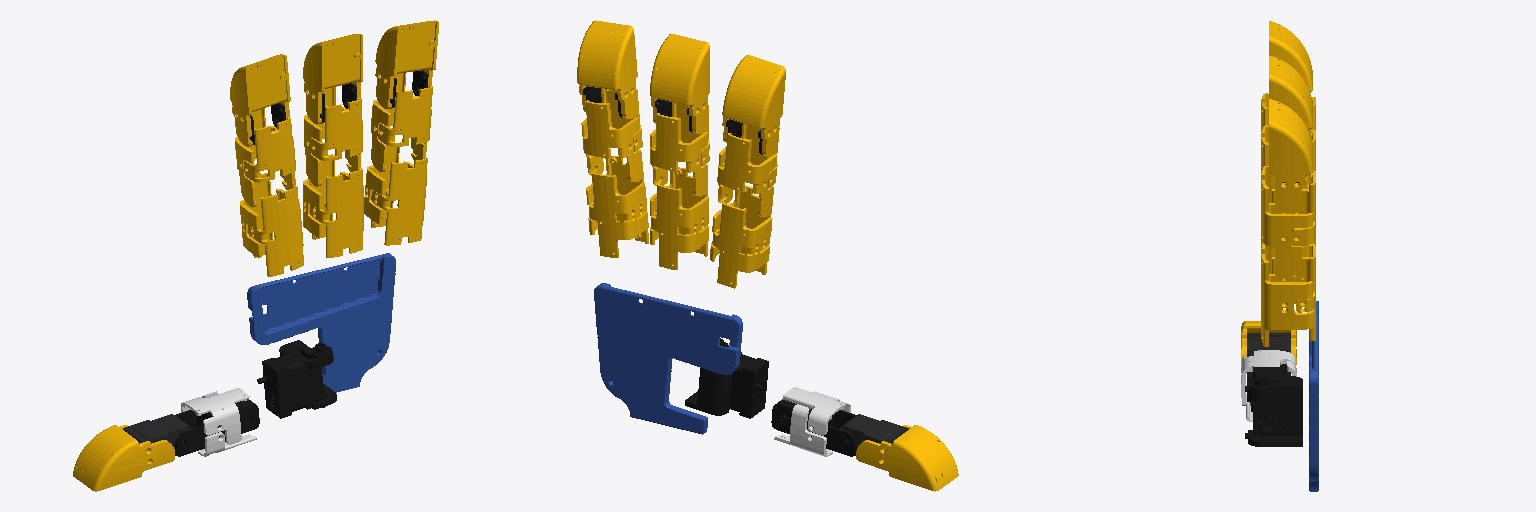
--- Render facts (derived) ---
The picture shows the robot from 3 angles, left to right: view 1: azimuth 30°, elevation 25°; view 2: azimuth 150°, elevation 25°; view 3: azimuth 270°, elevation 25°; orthographic projection.
Robot: allegro_hand_right — 38 links, 37 joints (16 revolute, 21 fixed); root link world; default pose: all joints at 0.
Visible links, largest first — view 1: palm_bracket, link_12, tft_bracket, pft_bracket, mft_bracket, ift_bracket, ipb_bracket, mpb_bracket, ppb_bracket, pmb_bracket, mmb_bracket, imb_bracket (+10 smaller); view 2: palm_bracket, pft_bracket, mft_bracket, ift_bracket, tft_bracket, link_12, ppf_bracket, mpf_bracket, ipf_bracket, pmf_bracket, mmf_bracket, imf_bracket (+10 smaller); view 3: link_12, pft_bracket, ppb_bracket, pmb_bracket, mft_bracket, palm_bracket, ift_bracket, pmf_bracket, ppf_bracket, tmf_bracket, link_15, tft_bracket.
Link boxes in pixels (x1,y1,x2,y2): palm_bracket: (247, 253, 395, 392); link_12: (257, 340, 336, 418); tft_bracket: (73, 425, 174, 491); pft_bracket: (375, 20, 438, 108); mft_bracket: (303, 34, 362, 124); ift_bracket: (230, 54, 290, 146); ipb_bracket: (248, 186, 303, 276); mpb_bracket: (310, 168, 363, 257); ppb_bracket: (371, 157, 427, 245); pmb_bracket: (378, 86, 432, 160); mmb_bracket: (311, 98, 362, 171); imb_bracket: (244, 117, 295, 189); palm_bracket: (594, 283, 742, 434); pft_bracket: (577, 20, 637, 118); mft_bracket: (650, 34, 709, 133); ift_bracket: (722, 55, 785, 156); tft_bracket: (856, 425, 958, 491); link_12: (685, 338, 768, 418); ppf_bracket: (589, 172, 648, 257); mpf_bracket: (651, 183, 708, 269); ipf_bracket: (712, 202, 772, 288); pmf_bracket: (582, 100, 642, 181); mmf_bracket: (650, 113, 707, 196); imf_bracket: (717, 133, 776, 217); link_12: (1245, 367, 1302, 446); pft_bracket: (1269, 99, 1312, 212); ppb_bracket: (1261, 243, 1313, 346); pmb_bracket: (1261, 166, 1312, 277); mft_bracket: (1269, 55, 1312, 129); palm_bracket: (1309, 301, 1318, 491); ift_bracket: (1269, 21, 1312, 92); pmf_bracket: (1272, 171, 1315, 245); ppf_bracket: (1272, 244, 1315, 340); tmf_bracket: (1241, 350, 1296, 405); link_15: (1247, 333, 1290, 364); tft_bracket: (1241, 321, 1296, 372).
Size in the robot's own frame: 0.2773 by 0.0477 by 0.2842 metres.
25 mesh visuals loaded from 17 distinct referenced files (10 binary STL, 1 ASCII STL, 1 Collada DAE); not drawn: 12 (reference not matched to a file when rendering).

The robot description file, URDF, robot "allegro_hand_right":
<?xml version="1.0" ?>
<robot name="allegro_hand_right">

    <link name="world"/>
    <link name="palm_link">
    <visual>
    <origin xyz="0 0.034 -0.002" rpy="3.14159 -0 0" />
    <geometry>
    <mesh filename="package://allegro_hand_description/meshes/g_r2.stl"/>
    </geometry>
    <material name="g_r2_material">
    <color rgba="0.2 0.2 0.2 1.0"/>
    </material>
    </visual>
    <collision>
    <origin xyz="0 0.034 -0.002" rpy="3.14159 -0 0" />
    <geometry>
    <mesh filename="package://allegro_hand_description/meshes/g_r2.stl"/>
    </geometry>
    <material name="g_r2_material">
    <color rgba="0.2 0.2 0.2 1.0"/>
    </material>
    </collision>
    <inertial>
    <origin xyz="-0.00043535 0.0160404 -0.0404815" rpy="0 0 0"/>
    <mass value="0.404445" />
    <inertia ixx="0.000491371" ixy="-9.01723e-06"  ixz="1.17974e-05" iyy="0.000773265" iyz="-5.50867e-06" izz="0.000547843" />
    </inertial>

    </link>

    <joint name="world_to_palm_link_joint" type="fixed">
        <origin xyz="0 0 0.095" rpy="0 0 0"/>
        <parent link="world"/>
        <child link="palm_link"/>
    </joint>
    
    <link name="link_0">
    <visual>
    <origin xyz="0 6.93889e-18 -0.0152" rpy="1.5708 6.16298e-33 -5.3926e-33" />
    <geometry>
    <mesh filename="package://allegro_hand_description/meshes/extended_finger_base.stl"/>
    </geometry>
    <material name="extended_finger_base_material">
    <color rgba="0.647059 0.647059 0.647059 1.0"/>
    </material>
    </visual>
    <collision>
    <origin xyz="0 6.93889e-18 -0.0152" rpy="1.5708 6.16298e-33 -5.3926e-33" />
    <geometry>
    <mesh filename="package://allegro_hand_description/meshes/extended_finger_base.stl"/>
    </geometry>
    <material name="extended_finger_base_material">
    <color rgba="0.647059 0.647059 0.647059 1.0"/>
    </material>
    </collision>
    <inertial>
    <origin xyz="-0.00041342 0.000666149 0.00960564" rpy="0 0 0"/>
    <mass value="0.0136672" />
    <inertia ixx="2.13441e-06" ixy="5.86704e-10"  ixz="-7.9563e-08" iyy="1.24411e-06" iyz="-6.13056e-08" izz="1.671e-06" />
    </inertial>
    </link>

    <link name="link_1">
    <visual>
    <origin xyz="-0.0182688 6.93889e-18 -0.0317805" rpy="-9.26798e-31 1.48353 -3.14159" />
    <geometry>
    <mesh filename="package://allegro_hand_description/meshes/p2_r6.stl"/>
    </geometry>
    <material name="p2_r6_material">
    <color rgba="0.129412 0.129412 0.129412 1.0"/>
    </material>
    </visual>
    <collision>
    <origin xyz="-0.0182688 6.93889e-18 -0.0317805" rpy="-9.26798e-31 1.48353 -3.14159" />
    <geometry>
    <mesh filename="package://allegro_hand_description/meshes/p2_r6.stl"/>
    </geometry>
    <material name="p2_r6_material">
    <color rgba="0.129412 0.129412 0.129412 1.0"/>
    </material>
    </collision>
    <inertial>
    <origin xyz="0.027 9.54536e-05 0.0124409" rpy="0 0 0"/>
    <mass value="0.0418346" />
    <inertia ixx="4.00114e-06" ixy="-1.81985e-08"  ixz="-4.42841e-15" iyy="1.97927e-05" iyz="1.59578e-08" izz="1.88563e-05" />
    </inertial>
    </link>

    <link name="link_2">
    <visual>
    <origin xyz="0.0722688 -4.16334e-17 -0.0317805" rpy="-7.19385e-31 1.48353 1.67955e-30" />
    <geometry>
    <mesh filename="package://allegro_hand_description/meshes/extended_fingertop.stl"/>
    </geometry>
    <material name="extended_fingertop_material">
    <color rgba="0.647059 0.647059 0.647059 1.0"/>
    </material>
    </visual>
    <collision>
    <origin xyz="0.0722688 -4.16334e-17 -0.0317805" rpy="-7.19385e-31 1.48353 1.67955e-30" />
    <geometry>
    <mesh filename="package://allegro_hand_description/meshes/extended_fingertop.stl"/>
    </geometry>
    <material name="extended_fingertop_material">
    <color rgba="0.647059 0.647059 0.647059 1.0"/>
    </material>
    </collision>
    <inertial>
    <origin xyz="-0.0294592 -0.000104104 0.0123435" rpy="0 0 0"/>
    <mass value="0.0318021" />
    <inertia ixx="3.48619e-06" ixy="1.20808e-07"  ixz="6.2918e-07" iyy="8.82437e-06" iyz="5.78644e-09" izz="7.34771e-06" />
    </inertial>
    </link>

    <link name="link_3">
    <visual>
    <origin xyz="0.1253 -5.55112e-17 0.0118" rpy="-3.14159 8.09265e-31 -1.5708" />
    <geometry>
    <mesh filename="package://allegro_hand_description/meshes/p4_r.stl"/>
    </geometry>
    <material name="p4_r_material">
    <color rgba="0.129412 0.129412 0.129412 1.0"/>
    </material>
    </visual>
    <collision>
    <origin xyz="0.1253 -5.55112e-17 0.0118" rpy="-3.14159 8.09265e-31 -1.5708" />
    <geometry>
    <mesh filename="package://allegro_hand_description/meshes/p4_r.stl"/>
    </geometry>
    <material name="p4_r_material">
    <color rgba="0.129412 0.129412 0.129412 1.0"/>
    </material>
    </collision>
    <inertial>
    <origin xyz="-0.0100051 0.000639363 0.0123057" rpy="0 0 0"/>
    <mass value="0.0088374" />
    <inertia ixx="1.08072e-06" ixy="-4.65695e-08"  ixz="-3.42321e-08" iyy="1.11236e-06" iyz="-8.85024e-10" izz="5.61586e-07" />
    </inertial>
    </link>

    <link name="ift_bracket">
    <visual>
    <origin xyz="-0.1139 -0.004 0.0135" rpy="-3.14159 -1.1025e-17 2.98637e-30" />
    <geometry>
    <mesh filename="package://allegro_hand_description/meshes/distal_pcbbase.stl"/>
    </geometry>
    <material name="distal_pcbbase_material">
    <color rgba="1 0.756863 0.054902 1.0"/>
    </material>
    </visual>
    <collision>
    <origin xyz="-0.1139 -0.004 0.0135" rpy="-3.14159 -1.1025e-17 2.98637e-30" />
    <geometry>
    <mesh filename="package://allegro_hand_description/meshes/distal_pcbbase.stl"/>
    </geometry>
    <material name="distal_pcbbase_material">
    <color rgba="1 0.756863 0.054902 1.0"/>
    </material>
    </collision>
    <inertial>
    <origin xyz="0.0170719 -0.00112911 0.0135244" rpy="0 0 0"/>
    <mass value="0.0155109" />
    <inertia ixx="3.339e-06" ixy="-4.60426e-07"  ixz="1.73449e-08" iyy="6.13257e-06" iyz="-6.39964e-10" izz="4.49513e-06" />
    </inertial>
    </link>

    <joint name="joint_index_fingertip_bracket" type="fixed">
    <origin xyz="-0.0135 0.004 0.0254" rpy="-3.14159 -1.01255e-15 -3.14159" />
    <parent link="link_3" />
    <child link="ift_bracket" />
    <axis xyz="0 0 1"/>
    <limit effort="1" velocity="20" />
    <joint_properties friction="0.0"/>
    </joint>

    <joint name="joint_3_0" type="revolute">
    <origin xyz="-0.04615 1.38778e-17 0.0001" rpy="2.47521e-16 -2.87243e-16 -9.91762e-14" />
    <parent link="link_2" />
    <child link="link_3" />
    <axis xyz="0 0 1"/>
    <limit effort="15" velocity="20" lower="0" upper="1.57" />
    <dynamics damping="0" friction="0.5" />
    <gazebo>
        <implicitSpringDamper> true </implicitSpringDamper>
    </gazebo>
    </joint>

<!-- *************************************Transmission************************************** -->
    <transmission name="trans_3_0">
        <type>transmission_interface/SimpleTransmission</type>
        <joint name="joint_3_0">
            <hardwareInterface>hardware_interface/EffortJointInterface</hardwareInterface>
        </joint>
        <actuator name="motor_3_0">
            <mechanicalReduction>1</mechanicalReduction>
        </actuator>
    </transmission>
<!-- *************************************Transmission************************************** -->

    <link name="imf_bracket">
    <visual>
    <origin xyz="-0.0755 -0.004 0.014" rpy="3.70821e-32 2.66331e-18 9.59804e-32" />
    <geometry>
    <mesh filename="package://allegro_hand_description/meshes/medial_front.stl"/>
    </geometry>
    <material name="medial_front_material">
    <color rgba="1 0.756863 0.054902 1.0"/>
    </material>
    </visual>
    <collision>
    <origin xyz="-0.0755 -0.004 0.014" rpy="3.70821e-32 2.66331e-18 9.59804e-32" />
    <geometry>
    <mesh filename="package://allegro_hand_description/meshes/medial_front.stl"/>
    </geometry>
    <material name="medial_front_material">
    <color rgba="1 0.756863 0.054902 1.0"/>
    </material>
    </collision>
    <inertial>
    <origin xyz="0.00469281 0.00336791 0.0198072" rpy="0 0 0"/>
    <mass value="0.00473232" />
    <inertia ixx="8.28869e-07" ixy="-2.96994e-07"  ixz="2.53991e-07" iyy="1.55762e-06" iyz="2.23567e-07" izz="1.28629e-06" />
    </inertial>
    </link>

    <joint name="joint_index_medial_front_bracket" type="fixed">
    <origin xyz="-0.0215 -0.004 -0.0021" rpy="1.55523e-28 1.64355e-17 -3.14159" />
    <parent link="link_2" />
    <child link="imf_bracket" />
    <axis xyz="0 0 1"/>
    <limit effort="1" velocity="20" />
    <joint_properties friction="0.0"/>
    </joint>

    <link name="imb_bracket">
    <visual>
    <origin xyz="-0.0755 -0.004 0.014" rpy="-3.14159 9.1762e-18 2.03448e-31" />
    <geometry>
    <mesh filename="package://allegro_hand_description/meshes/medial_back.stl"/>
    </geometry>
    <material name="medial_back_material">
    <color rgba="1 0.756863 0.054902 1.0"/>
    </material>
    </visual>
    <collision>
    <origin xyz="-0.0755 -0.004 0.014" rpy="-3.14159 9.1762e-18 2.03448e-31" />
    <geometry>
    <mesh filename="package://allegro_hand_description/meshes/medial_back.stl"/>
    </geometry>
    <material name="medial_back_material">
    <color rgba="1 0.756863 0.054902 1.0"/>
    </material>
    </collision>
    <inertial>
    <origin xyz="0.0050369 0.00536951 0.0198823" rpy="0 0 0"/>
    <mass value="0.00531302" />
    <inertia ixx="1.01036e-06" ixy="-2.70353e-07"  ixz="2.64599e-07" iyy="1.7622e-06" iyz="2.24575e-07" izz="1.4134e-06" />
    </inertial>
    </link>

    <joint name="joint_index_medial_back_bracket" type="fixed">
    <origin xyz="-0.0215 0.004 0.0259" rpy="-3.14159 -1.66749e-15 3.14159" />
    <parent link="link_2" />
    <child link="imb_bracket" />
    <axis xyz="0 0 1"/>
    <limit effort="1" velocity="20" />
    <joint_properties friction="0.0"/>
    </joint>

    <joint name="joint_2_0" type="revolute">
    <origin xyz="0.054 -2.08167e-17 0" rpy="3.51153e-16 -1.76861e-16 -3.14159" />
    <parent link="link_1" />
    <child link="link_2" />
    <axis xyz="0 0 1"/>
    <limit effort="15" velocity="20" lower="0" upper="1.57" />
    <dynamics damping="0" friction="0.5" />
    <gazebo>
        <implicitSpringDamper> true </implicitSpringDamper>
    </gazebo>
    </joint>
    <!-- *************************************Transmission************************************** -->
    <transmission name="trans_2_0">
        <type>transmission_interface/SimpleTransmission</type>
        <joint name="joint_2_0">
            <hardwareInterface>hardware_interface/EffortJointInterface</hardwareInterface>
        </joint>
        <actuator name="motor_2_0">
            <mechanicalReduction>1</mechanicalReduction>
        </actuator>
    </transmission>
<!-- *************************************Transmission************************************** -->


    <link name="ipb_bracket">
    <visual>
    <origin xyz="-0.0249 -0.0037 0.014" rpy="-3.14159 -9.52926e-18 1.00291e-30" />
    <geometry>
    <mesh filename="package://allegro_hand_description/meshes/proximal_back.stl"/>
    </geometry>
    <material name="proximal_back_material">
    <color rgba="1 0.756863 0.054902 1.0"/>
    </material>
    </visual>
    <collision>
    <origin xyz="-0.0249 -0.0037 0.014" rpy="-3.14159 -9.52926e-18 1.00291e-30" />
    <geometry>
    <mesh filename="package://allegro_hand_description/meshes/proximal_back.stl"/>
    </geometry>
    <material name="proximal_back_material">
    <color rgba="1 0.756863 0.054902 1.0"/>
    </material>
    </collision>
    <inertial>
    <origin xyz="0.00190421 0.00603324 0.0192417" rpy="0 0 0"/>
    <mass value="0.00681742" />
    <inertia ixx="1.33469e-06" ixy="-1.25087e-08"  ixz="-1.65721e-09" iyy="2.12223e-06" iyz="3.02232e-07" izz="1.86525e-06" />
    </inertial>
    </link>

    <joint name="joint_index_proximal_back_bracket" type="fixed">
    <origin xyz="0.0249 -0.0037 0.0253" rpy="-3.14159 1.75587e-16 3.12083e-29" />
    <parent link="link_1" />
    <child link="ipb_bracket" />
    <axis xyz="0 0 1"/>
    <limit effort="1" velocity="20" />
    <joint_properties friction="0.0"/>
    </joint>

    <link name="ipf_bracket">
    <visual>
    <origin xyz="-0.0249 -0.0077 0.014" rpy="8.39712e-30 1.01964e-17 -7.67956e-32" />
    <geometry>
    <mesh filename="package://allegro_hand_description/meshes/proximal_front.stl"/>
    </geometry>
    <material name="proximal_front_material">
    <color rgba="1 0.756863 0.054902 1.0"/>
    </material>
    </visual>
    <collision>
    <origin xyz="-0.0249 -0.0077 0.014" rpy="8.39712e-30 1.01964e-17 -7.67956e-32" />
    <geometry>
    <mesh filename="package://allegro_hand_description/meshes/proximal_front.stl"/>
    </geometry>
    <material name="proximal_front_material">
    <color rgba="1 0.756863 0.054902 1.0"/>
    </material>
    </collision>
    <inertial>
    <origin xyz="0.00266438 0.00143857 0.0191449" rpy="0 0 0"/>
    <mass value="0.00549452" />
    <inertia ixx="8.30997e-07" ixy="-1.44805e-08"  ixz="8.87855e-09" iyy="1.59352e-06" iyz="2.4142e-07" izz="1.37197e-06" />
    </inertial>
    </link>

    <joint name="joint_index_proximal_front_bracket" type="fixed">
    <origin xyz="0.0249 0.0077 -0.0017" rpy="-5.29761e-14 6.49973e-18 -2.65051e-30" />
    <parent link="link_1" />
    <child link="ipf_bracket" />
    <axis xyz="0 0 1"/>
    <limit effort="1" velocity="20" />
    <joint_properties friction="0.0"/>
    </joint>

    <joint name="joint_1_0" type="revolute">
    <origin xyz="0 -0.0119 0.02545" rpy="-1.5708 -1.5708 0" />
    <parent link="link_0" />
    <child link="link_1" />
    <axis xyz="0 0 1"/>
    <limit effort="15" velocity="20" lower="0" upper="1.57" />
    <dynamics damping="0" friction="0.5" />
    <gazebo>
        <implicitSpringDamper> true </implicitSpringDamper>
    </gazebo>
    </joint>

    <!-- *************************************Transmission************************************** -->
    <transmission name="trans_1_0">
        <type>transmission_interface/SimpleTransmission</type>
        <joint name="joint_1_0">
            <hardwareInterface>hardware_interface/EffortJointInterface</hardwareInterface>
        </joint>
        <actuator name="motor_1_0">
            <mechanicalReduction>1</mechanicalReduction>
        </actuator>
    </transmission>
<!-- *************************************Transmission************************************** -->

    <joint name="joint_0_0" type="revolute">
    <origin xyz="-0.0435377 0.034 -0.00553922" rpy="-0.0872665 -1.66533e-16 1.5708" />
    <parent link="palm_link" />
    <child link="link_0" />
    <axis xyz="0 0 1"/>
    <limit effort="15" velocity="20" lower="-1.57" upper="1.57" />
    <dynamics damping="0" friction="0.5" />
    <gazebo>
        <implicitSpringDamper> true </implicitSpringDamper>
    </gazebo>
    </joint>
    <!-- *************************************Transmission************************************** -->
    <transmission name="trans_0_0">
        <type>transmission_interface/SimpleTransmission</type>
        <joint name="joint_0_0">
            <hardwareInterface>hardware_interface/EffortJointInterface</hardwareInterface>
        </joint>
        <actuator name="motor_0_0">
            <mechanicalReduction>1</mechanicalReduction>
        </actuator>
    </transmission>
<!-- *************************************Transmission************************************** -->


    <link name="link_4">
    <visual>
    <origin xyz="0 -2.52778e-34 -0.0152" rpy="1.5708 -0 1.53951e-48" />
    <geometry>
    <mesh filename="package://allegro_hand_description/meshes/extended_finger_base.stl"/>
    </geometry>
    <material name="extended_finger_base_material">
    <color rgba="0.647059 0.647059 0.647059 1.0"/>
    </material>
    </visual>
    <collision>
    <origin xyz="0 -2.52778e-34 -0.0152" rpy="1.5708 -0 1.53951e-48" />
    <geometry>
    <mesh filename="package://allegro_hand_description/meshes/extended_finger_base.stl"/>
    </geometry>
    <material name="extended_finger_base_material">
    <color rgba="0.647059 0.647059 0.647059 1.0"/>
    </material>
    </collision>
    <inertial>
    <origin xyz="-0.00041342 0.000666149 0.00960564" rpy="0 0 0"/>
    <mass value="0.0136672" />
    <inertia ixx="2.13441e-06" ixy="5.86704e-10"  ixz="-7.9563e-08" iyy="1.24411e-06" iyz="-6.13056e-08" izz="1.671e-06" />
    </inertial>
    </link>

    <link name="link_5">
    <visual>
    <origin xyz="0.0182688 6.93889e-18 -0.0317805" rpy="-4.20659e-34 1.48353 4.31224e-31" />
    <geometry>
    <mesh filename="package://allegro_hand_description/meshes/p2_r6.stl"/>
    </geometry>
    <material name="p2_r6_material">
    <color rgba="0.129412 0.129412 0.129412 1.0"/>
    </material>
    </visual>
    <collision>
    <origin xyz="0.0182688 6.93889e-18 -0.0317805" rpy="-4.20659e-34 1.48353 4.31224e-31" />
    <geometry>
    <mesh filename="package://allegro_hand_description/meshes/p2_r6.stl"/>
    </geometry>
    <material name="p2_r6_material">
    <color rgba="0.129412 0.129412 0.129412 1.0"/>
    </material>
    </collision>
    <inertial>
    <origin xyz="-0.027 -9.54536e-05 0.0124409" rpy="0 0 0"/>
    <mass value="0.0418346" />
    <inertia ixx="4.44908e-06" ixy="2.0693e-08"  ixz="2.54038e-06" iyy="1.97927e-05" iyz="1.25552e-08" izz="1.84084e-05" />
    </inertial>
    </link>

    <link name="link_6">
    <visual>
    <origin xyz="0.0722688 -4.16334e-17 -0.0317805" rpy="9.86282e-31 1.48353 -7.49973e-31" />
    <geometry>
    <mesh filename="package://allegro_hand_description/meshes/extended_fingertop.stl"/>
    </geometry>
    <material name="extended_fingertop_material">
    <color rgba="0.647059 0.647059 0.647059 1.0"/>
    </material>
    </visual>
    <collision>
    <origin xyz="0.0722688 -4.16334e-17 -0.0317805" rpy="9.86282e-31 1.48353 -7.49973e-31" />
    <geometry>
    <mesh filename="package://allegro_hand_description/meshes/extended_fingertop.stl"/>
    </geometry>
    <material name="extended_fingertop_material">
    <color rgba="0.647059 0.647059 0.647059 1.0"/>
    </material>
    </collision>
    <inertial>
    <origin xyz="-0.0294592 -0.000104104 0.0123435" rpy="0 0 0"/>
    <mass value="0.0318021" />
    <inertia ixx="3.48619e-06" ixy="1.20808e-07"  ixz="6.2918e-07" iyy="8.82437e-06" iyz="5.78644e-09" izz="7.34771e-06" />
    </inertial>
    </link>

    <link name="link_7">
    <visual>
    <origin xyz="0.1253 -6.245e-17 0.0118" rpy="3.14159 1.191e-31 -1.5708" />
    <geometry>
    <mesh filename="package://allegro_hand_description/meshes/p4_r.stl"/>
    </geometry>
    <material name="p4_r_material">
    <color rgba="0.129412 0.129412 0.129412 1.0"/>
    </material>
    </visual>
    <collision>
    <origin xyz="0.1253 -6.245e-17 0.0118" rpy="3.14159 1.191e-31 -1.5708" />
    <geometry>
    <mesh filename="package://allegro_hand_description/meshes/p4_r.stl"/>
    </geometry>
    <material name="p4_r_material">
    <color rgba="0.129412 0.129412 0.129412 1.0"/>
    </material>
    </collision>
    <inertial>
    <origin xyz="-0.0100051 0.000639363 0.0123057" rpy="0 0 0"/>
    <mass value="0.0088374" />
    <inertia ixx="1.08072e-06" ixy="-4.65695e-08"  ixz="-3.42321e-08" iyy="1.11236e-06" iyz="-8.85024e-10" izz="5.61586e-07" />
    </inertial>
    </link>

    <link name="mft_bracket">
    <visual>
    <origin xyz="-0.1139 -0.004 0.0135" rpy="-3.14159 -2.86226e-33 8.46292e-32" />
    <geometry>
    <mesh filename="package://allegro_hand_description/meshes/distal_pcbbase.stl"/>
    </geometry>
    <material name="distal_pcbbase_material">
    <color rgba="1 0.756863 0.054902 1.0"/>
    </material>
    </visual>
    <collision>
    <origin xyz="-0.1139 -0.004 0.0135" rpy="-3.14159 -2.86226e-33 8.46292e-32" />
    <geometry>
    <mesh filename="package://allegro_hand_description/meshes/distal_pcbbase.stl"/>
    </geometry>
    <material name="distal_pcbbase_material">
    <color rgba="1 0.756863 0.054902 1.0"/>
    </material>
    </collision>
    <inertial>
    <origin xyz="0.0170719 -0.00112911 0.0135244" rpy="0 0 0"/>
    <mass value="0.0155109" />
    <inertia ixx="3.339e-06" ixy="-4.60426e-07"  ixz="1.73449e-08" iyy="6.13257e-06" iyz="-6.39964e-10" izz="4.49513e-06" />
    </inertial>
    </link>

    <joint name="joint_middle_fingertip_bracket" type="fixed">
    <origin xyz="-0.0135 0.004 0.0254" rpy="-3.14159 -5.9952e-15 -3.14159" />
    <parent link="link_7" />
    <child link="mft_bracket" />
    <axis xyz="0 0 1"/>
    <limit effort="1" velocity="20" />
    <joint_properties friction="0.0"/>
    </joint>

    <joint name="joint_7_0" type="revolute">
    <origin xyz="-0.04615 2.08167e-17 0.0001" rpy="7.63278e-16 5.80199e-16 -9.4334e-27" />
    <parent link="link_6" />
    <child link="link_7" />
    <axis xyz="0 0 1"/>
    <limit effort="15" velocity="20" lower="0" upper="1.57" />
    <dynamics damping="0" friction="0.5" />
    <gazebo>
        <implicitSpringDamper> true </implicitSpringDamper>
    </gazebo>
    </joint>
    <!-- *************************************Transmission************************************** -->
    <transmission name="trans_7_0">
        <type>transmission_interface/SimpleTransmission</type>
        <joint name="joint_7_0">
            <hardwareInterface>hardware_interface/EffortJointInterface</hardwareInterface>
        </joint>
        <actuator name="motor_7_0">
            <mechanicalReduction>1</mechanicalReduction>
        </actuator>
    </transmission>
<!-- *************************************Transmission************************************** -->

    <link name="mmf_bracket">
    <visual>
    <origin xyz="-0.0755 -0.004 0.014" rpy="1.16303e-31 -0 0" />
    <geometry>
    <mesh filename="package://allegro_hand_description/meshes/medial_front.stl"/>
    </geometry>
    <material name="medial_front_material">
    <color rgba="1 0.756863 0.054902 1.0"/>
    </material>
    </visual>
    <collision>
    <origin xyz="-0.0755 -0.004 0.014" rpy="1.16303e-31 -0 0" />
    <geometry>
    <mesh filename="package://allegro_hand_description/meshes/medial_front.stl"/>
    </geometry>
    <material name="medial_front_material">
    <color rgba="1 0.756863 0.054902 1.0"/>
    </material>
    </collision>
    <inertial>
    <origin xyz="0.00469281 0.00336791 0.0198072" rpy="0 0 0"/>
    <mass value="0.00473232" />
    <inertia ixx="8.28869e-07" ixy="-2.96994e-07"  ixz="2.53991e-07" iyy="1.55762e-06" iyz="2.23567e-07" izz="1.28629e-06" />
    </inertial>
    </link>

    <joint name="joint_middle_medial_front_bracket" type="fixed">
    <origin xyz="-0.0215 -0.004 -0.0021" rpy="-4.39991e-17 5.71587e-18 3.14159" />
    <parent link="link_6" />
    <child link="mmf_bracket" />
    <axis xyz="0 0 1"/>
    <limit effort="1" velocity="20" />
    <joint_properties friction="0.0"/>
    </joint>

    <link name="mmb_bracket">
    <visual>
    <origin xyz="-0.0755 -0.004 0.014" rpy="-3.14159 1.10699e-32 -3.44224e-32" />
    <geometry>
    <mesh filename="package://allegro_hand_description/meshes/medial_back.stl"/>
    </geometry>
    <material name="medial_back_material">
    <color rgba="1 0.756863 0.054902 1.0"/>
    </material>
    </visual>
    <collision>
    <origin xyz="-0.0755 -0.004 0.014" rpy="-3.14159 1.10699e-32 -3.44224e-32" />
    <geometry>
    <mesh filename="package://allegro_hand_description/meshes/medial_back.stl"/>
    </geometry>
    <material name="medial_back_material">
    <color rgba="1 0.756863 0.054902 1.0"/>
    </material>
    </collision>
    <inertial>
    <origin xyz="0.0050369 0.00536951 0.0198823" rpy="0 0 0"/>
    <mass value="0.00531302" />
    <inertia ixx="1.01036e-06" ixy="-2.70353e-07"  ixz="2.64599e-07" iyy="1.7622e-06" iyz="2.24575e-07" izz="1.4134e-06" />
    </inertial>
    </link>

    <joint name="joint_middle_medial_back_bracket" type="fixed">
    <origin xyz="-0.0215 0.004 0.0259" rpy="-3.14159 -9.53737e-16 3.14159" />
    <parent link="link_6" />
    <child link="mmb_bracket" />
    <axis xyz="0 0 1"/>
    <limit effort="1" velocity="20" />
    <joint_properties friction="0.0"/>
    </joint>

    <joint name="joint_6_0" type="revolute">
    <origin xyz="-0.054 2.56739e-16 -1.76074e-15" rpy="5.58159e-16 -7.32724e-16 -3.32379e-15" />
    <parent link="link_5" />
    <child link="link_6" />
    <axis xyz="0 0 1"/>
    <limit effort="15" velocity="20" lower="0" upper="1.57" />
    <dynamics damping="0" friction="0.5" />
    <gazebo>
        <implicitSpringDamper> true </implicitSpringDamper>
    </gazebo>
    </joint>
    <!-- *************************************Transmission************************************** -->
    <transmission name="trans_6_0">
        <type>transmission_interface/SimpleTransmission</type>
        <joint name="joint_6_0">
            <hardwareInterface>hardware_interface/EffortJointInterface</hardwareInterface>
        </joint>
        <actuator name="motor_6_0">
            <mechanicalReduction>1</mechanicalReduction>
        </actuator>
    </transmission>
<!-- *************************************Transmission************************************** -->
    

    <link name="mpf_bracket">
    <visual>
    <origin xyz="-0.0249 -0.0077 0.014" rpy="-6.58054e-35 -0 0" />
    <geometry>
    <mesh filename="package://allegro_hand_description/meshes/proximal_front.stl"/>
    </geometry>
    <material name="proximal_front_material">
    <color rgba="1 0.756863 0.054902 1.0"/>
    </material>
    </visual>
    <collision>
    <origin xyz="-0.0249 -0.0077 0.014" rpy="-6.58054e-35 -0 0" />
    <geometry>
    <mesh filename="package://allegro_hand_description/meshes/proximal_front.stl"/>
    </geometry>
    <material name="proximal_front_material">
    <color rgba="1 0.756863 0.054902 1.0"/>
    </material>
    </collision>
    <inertial>
    <origin xyz="0.00266438 0.00143857 0.0191449" rpy="0 0 0"/>
    <mass value="0.00549452" />
    <inertia ixx="8.30997e-07" ixy="-1.44805e-08"  ixz="8.87855e-09" iyy="1.59352e-06" iyz="2.4142e-07" izz="1.37197e-06" />
    </inertial>
    </link>

    <joint name="joint_middle_proximal_front_bracket" type="fixed">
    <origin xyz="-0.0249 -0.0077 -0.0017" rpy="-5.38894e-32 -1.09608e-17 3.14159" />
    <parent link="link_5" />
    <child link="mpf_bracket" />
    <axis xyz="0 0 1"/>
    <limit effort="1" velocity="20" />
    <joint_properties friction="0.0"/>
    </joint>

    <link name="mpb_bracket">
    <visual>
    <origin xyz="-0.0249 -0.0037 0.014" rpy="3.14159 1.12086e-44 -2.66386e-31" />
    <geometry>
    <mesh filename="package://allegro_hand_description/meshes/proximal_back.stl"/>
    </geometry>
    <material name="proximal_back_material">
    <color rgba="1 0.756863 0.054902 1.0"/>
    </material>
    </visual>
    <collision>
    <origin xyz="-0.0249 -0.0037 0.014" rpy="3.14159 1.12086e-44 -2.66386e-31" />
    <geometry>
    <mesh filename="package://allegro_hand_description/meshes/proximal_back.stl"/>
    </geometry>
    <material name="proximal_back_material">
    <color rgba="1 0.756863 0.054902 1.0"/>
    </material>
    </collision>
    <inertial>
    <origin xyz="0.00190421 0.00603324 0.0192417" rpy="0 0 0"/>
    <mass value="0.00681742" />
    <inertia ixx="1.33469e-06" ixy="-1.25087e-08"  ixz="-1.65721e-09" iyy="2.12223e-06" iyz="3.02232e-07" izz="1.86525e-06" />
    </inertial>
    </link>

    <joint name="joint_middle_proximal_back_bracket" type="fixed">
    <origin xyz="-0.0249 0.0037 0.0253" rpy="3.14159 -5.25942e-17 -3.14159" />
    <parent link="link_5" />
    <child link="mpb_bracket" />
    <axis xyz="0 0 1"/>
    <limit effort="1" velocity="20" />
    <joint_properties friction="0.0"/>
    </joint>

    <joint name="joint_5_0" type="revolute">
    <origin xyz="6.93889e-18 -0.0119 0.02545" rpy="-1.5708 1.5708 0" />
    <parent link="link_4" />
    <child link="link_5" />
    <axis xyz="0 0 1"/>
    <limit effort="15" velocity="20" lower="0" upper="1.57" />
    <dynamics damping="0" friction="0.5" />
    <gazebo>
        <implicitSpringDamper> true </implicitSpringDamper>
    </gazebo>
    </joint>
    <!-- *************************************Transmission************************************** -->
    <transmission name="trans_5_0">
        <type>transmission_interface/SimpleTransmission</type>
        <joint name="joint_5_0">
            <hardwareInterface>hardware_interface/EffortJointInterface</hardwareInterface>
        </joint>
        <actuator name="motor_5_0">
            <mechanicalReduction>1</mechanicalReduction>
        </actuator>
    </transmission>
<!-- *************************************Transmission************************************** -->

    <joint name="joint_4_0" type="revolute">
    <origin xyz="-2.68398e-34 0.034 -0.0033" rpy="0 -0 1.5708" />
    <parent link="palm_link" />
    <child link="link_4" />
    <axis xyz="0 0 1"/>
    <limit effort="15" velocity="20" lower="-1.57" upper="1.57" />
    <dynamics damping="0" friction="0.5" />
    <gazebo>
        <implicitSpringDamper> true </implicitSpringDamper>
    </gazebo>
    </joint>
    <!-- *************************************Transmission************************************** -->
    <transmission name="trans_4_0">
        <type>transmission_interface/SimpleTransmission</type>
        <joint name="joint_4_0">
            <hardwareInterface>hardware_interface/EffortJointInterface</hardwareInterface>
        </joint>
        <actuator name="motor_4_0">
            <mechanicalReduction>1</mechanicalReduction>
        </actuator>
    </transmission>
<!-- *************************************Transmission************************************** -->


    <link name="link_8">
    <visual>
    <origin xyz="6.93889e-18 -6.93889e-18 -0.0152" rpy="1.5708 -1.84889e-32 4.46816e-32" />
    <geometry>
    <mesh filename="package://allegro_hand_description/meshes/extended_finger_base.stl"/>
    </geometry>
    <material name="extended_finger_base_material">
    <color rgba="0.647059 0.647059 0.647059 1.0"/>
    </material>
    </visual>
    <collision>
    <origin xyz="6.93889e-18 -6.93889e-18 -0.0152" rpy="1.5708 -1.84889e-32 4.46816e-32" />
    <geometry>
    <mesh filename="package://allegro_hand_description/meshes/extended_finger_base.stl"/>
    </geometry>
    <material name="extended_finger_base_material">
    <color rgba="0.647059 0.647059 0.647059 1.0"/>
    </material>
    </collision>
    <inertial>
    <origin xyz="-0.00041342 0.000666149 0.00960564" rpy="0 0 0"/>
    <mass value="0.0136672" />
    <inertia ixx="2.13441e-06" ixy="5.86704e-10"  ixz="-7.9563e-08" iyy="1.24411e-06" iyz="-6.13056e-08" izz="1.671e-06" />
    </inertial>
    </link>

    <link name="link_9">
    <visual>
    <origin xyz="0.0182688 -6.93889e-18 -0.0317805" rpy="-9.9881e-31 1.48353 6.61585e-31" />
    <geometry>
    <mesh filename="package://allegro_hand_description/meshes/p2_r6.stl"/>
    </geometry>
    <material name="p2_r6_material">
    <color rgba="0.129412 0.129412 0.129412 1.0"/>
    </material>
    </visual>
    <collision>
    <origin xyz="0.0182688 -6.93889e-18 -0.0317805" rpy="-9.9881e-31 1.48353 6.61585e-31" />
    <geometry>
    <mesh filename="package://allegro_hand_description/meshes/p2_r6.stl"/>
    </geometry>
    <material name="p2_r6_material">
    <color rgba="0.129412 0.129412 0.129412 1.0"/>
    </material>
    </collision>
    <inertial>
    <origin xyz="-0.027 -9.54536e-05 0.0124409" rpy="0 0 0"/>
    <mass value="0.0418346" />
    <inertia ixx="4.44908e-06" ixy="2.0693e-08"  ixz="2.54038e-06" iyy="1.97927e-05" iyz="1.25552e-08" izz="1.84084e-05" />
    </inertial>
    </link>

    <link name="link_10">
    <visual>
    <origin xyz="0.0722688 -4.16334e-17 -0.0317805" rpy="8.79483e-31 1.48353 -9.22514e-31" />
    <geometry>
    <mesh filename="package://allegro_hand_description/meshes/extended_fingertop.stl"/>
    </geometry>
    <material name="extended_fingertop_material">
    <color rgba="0.647059 0.647059 0.647059 1.0"/>
    </material>
    </visual>
    <collision>
    <origin xyz="0.0722688 -4.16334e-17 -0.0317805" rpy="8.79483e-31 1.48353 -9.22514e-31" />
    <geometry>
    <mesh filename="package://allegro_hand_description/meshes/extended_fingertop.stl"/>
    </geometry>
    <material name="extended_fingertop_material">
    <color rgba="0.647059 0.647059 0.647059 1.0"/>
    </material>
    </collision>
    <inertial>
    <origin xyz="-0.0294592 -0.000104104 0.0123435" rpy="0 0 0"/>
    <mass value="0.0318021" />
    <inertia ixx="3.48619e-06" ixy="1.20808e-07"  ixz="6.2918e-07" iyy="8.82437e-06" iyz="5.78644e-09" izz="7.34771e-06" />
    </inertial>
    </link>

    <link name="link_11">
    <visual>
    <origin xyz="0.1253 -6.245e-17 0.0118" rpy="3.14159 2.28724e-32 -1.5708" />
    <geometry>
    <mesh filename="package://allegro_hand_description/meshes/p4_r.stl"/>
    </geometry>
    <material name="p4_r_material">
    <color rgba="0.129412 0.129412 0.129412 1.0"/>
    </material>
    </visual>
    <collision>
    <origin xyz="0.1253 -6.245e-17 0.0118" rpy="3.14159 2.28724e-32 -1.5708" />
    <geometry>
    <mesh filename="package://allegro_hand_description/meshes/p4_r.stl"/>
    </geometry>
    <material name="p4_r_material">
    <color rgba="0.129412 0.129412 0.129412 1.0"/>
    </material>
    </collision>
    <inertial>
    <origin xyz="-0.0100051 0.000639363 0.0123057" rpy="0 0 0"/>
    <mass value="0.0088374" />
    <inertia ixx="1.08072e-06" ixy="-4.65695e-08"  ixz="-3.42321e-08" iyy="1.11236e-06" iyz="-8.85024e-10" izz="5.61586e-07" />
    </inertial>
    </link>

    <link name="pft_bracket">
    <visual>
    <origin xyz="-0.1139 -0.004 0.0135" rpy="3.14159 -1.23888e-17 1.26676e-30" />
    <geometry>
    <mesh filename="package://allegro_hand_description/meshes/distal_pcbbase.stl"/>
    </geometry>
    <material name="distal_pcbbase_material">
    <color rgba="1 0.756863 0.054902 1.0"/>
    </material>
    </visual>
    <collision>
    <origin xyz="-0.1139 -0.004 0.0135" rpy="3.14159 -1.23888e-17 1.26676e-30" />
    <geometry>
    <mesh filename="package://allegro_hand_description/meshes/distal_pcbbase.stl"/>
    </geometry>
    <material name="distal_pcbbase_material">
    <color rgba="1 0.756863 0.054902 1.0"/>
    </material>
    </collision>
    <inertial>
    <origin xyz="0.0170719 -0.00112911 0.0135244" rpy="0 0 0"/>
    <mass value="0.0155109" />
    <inertia ixx="3.339e-06" ixy="-4.60426e-07"  ixz="1.73449e-08" iyy="6.13257e-06" iyz="-6.39964e-10" izz="4.49513e-06" />
    </inertial>
    </link>

    <joint name="joint_pinky_fingertip_bracket" type="fixed">
    <origin xyz="-0.0135 0.004 0.0254" rpy="-3.14159 -6.33477e-16 -3.14159" />
    <parent link="link_11" />
    <child link="pft_bracket" />
    <axis xyz="0 0 1"/>
    <limit effort="1" velocity="20" />
    <joint_properties friction="0.0"/>
    </joint>

    <joint name="joint_11_0" type="revolute">
    <origin xyz="-0.04615 6.93889e-18 0.0001" rpy="9.68157e-16 1.44316e-15 -1.10006e-18" />
    <parent link="link_10" />
    <child link="link_11" />
    <axis xyz="0 0 1"/>
    <limit effort="15" velocity="20" lower="0" upper="1.57" />
    <dynamics damping="0" friction="0.5" />
    <gazebo>
        <implicitSpringDamper> true </implicitSpringDamper>
    </gazebo>
    </joint>
    <!-- *************************************Transmission************************************** -->
    <transmission name="trans_11_0">
        <type>transmission_interface/SimpleTransmission</type>
        <joint name="joint_11_0">
            <hardwareInterface>hardware_interface/EffortJointInterface</hardwareInterface>
        </joint>
        <actuator name="motor_11_0">
            <mechanicalReduction>1</mechanicalReduction>
        </actuator>
    </transmission>
<!-- *************************************Transmission************************************** -->


    <link name="pmf_bracket">
    <visual>
    <origin xyz="-0.0755 -0.004 0.014" rpy="-4.60875e-31 -1.57247e-17 4.68304e-31" />
    <geometry>
    <mesh filename="package://allegro_hand_description/meshes/medial_front.stl"/>
    </geometry>
    <material name="medial_front_material">
    <color rgba="1 0.756863 0.054902 1.0"/>
    </material>
    </visual>
    <collision>
    <origin xyz="-0.0755 -0.004 0.014" rpy="-4.60875e-31 -1.57247e-17 4.68304e-31" />
    <geometry>
    <mesh filename="package://allegro_hand_description/meshes/medial_front.stl"/>
    </geometry>
    <material name="medial_front_material">
    <color rgba="1 0.756863 0.054902 1.0"/>
    </material>
    </collision>
    <inertial>
    <origin xyz="0.00469281 0.00336791 0.0198072" rpy="0 0 0"/>
    <mass value="0.00473232" />
    <inertia ixx="8.28869e-07" ixy="-2.96994e-07"  ixz="2.53991e-07" iyy="1.55762e-06" iyz="2.23567e-07" izz="1.28629e-06" />
    </inertial>
    </link>

    <joint name="joint_pinky_medial_front_bracket" type="fixed">
    <origin xyz="-0.0215 -0.004 -0.0021" rpy="-4.41528e-16 3.94696e-17 3.14159" />
    <parent link="link_10" />
    <child link="pmf_bracket" />
    <axis xyz="0 0 1"/>
    <limit effort="1" velocity="20" />
    <joint_properties friction="0.0"/>
    </joint>

    <link name="pmb_bracket">
    <visual>
    <origin xyz="-0.0755 -0.004 0.014" rpy="-3.14159 -1.43313e-17 5.8017e-31" />
    <geometry>
    <mesh filename="package://allegro_hand_description/meshes/medial_back.stl"/>
    </geometry>
    <material name="medial_back_material">
    <color rgba="1 0.756863 0.054902 1.0"/>
    </material>
    </visual>
    <collision>
    <origin xyz="-0.0755 -0.004 0.014" rpy="-3.14159 -1.43313e-17 5.8017e-31" />
    <geometry>
    <mesh filename="package://allegro_hand_description/meshes/medial_back.stl"/>
    </geometry>
    <material name="medial_back_material">
    <color rgba="1 0.756863 0.054902 1.0"/>
    </material>
    </collision>
    <inertial>
    <origin xyz="0.0050369 0.00536951 0.0198823" rpy="0 0 0"/>
    <mass value="0.00531302" />
    <inertia ixx="1.01036e-06" ixy="-2.70353e-07"  ixz="2.64599e-07" iyy="1.7622e-06" iyz="2.24575e-07" izz="1.4134e-06" />
    </inertial>
    </link>

    <joint name="joint_pinky_medial_back_bracket" type="fixed">
    <origin xyz="-0.0215 0.004 0.0259" rpy="3.14159 -4.42051e-16 3.14159" />
    <parent link="link_10" />
    <child link="pmb_bracket" />
    <axis xyz="0 0 1"/>
    <limit effort="1" velocity="20" />
    <joint_properties friction="0.0"/>
    </joint>

    <joint name="joint_10_0" type="revolute">
    <origin xyz="-0.054 1.8735e-16 6.93889e-18" rpy="1.89044e-16 -3.19266e-15 -2.31621e-15" />
    <parent link="link_9" />
    <child link="link_10" />
    <axis xyz="0 0 1"/>
    <limit effort="15" velocity="20" lower="0" upper="1.57" />
    <dynamics damping="0" friction="0.5" />
    <gazebo>
        <implicitSpringDamper> true </implicitSpringDamper>
    </gazebo>
    </joint>
    <!-- *************************************Transmission************************************** -->
    <transmission name="trans_10_0">
        <type>transmission_interface/SimpleTransmission</type>
        <joint name="joint_10_0">
            <hardwareInterface>hardware_interface/EffortJointInterface</hardwareInterface>
        </joint>
        <actuator name="motor_10_0">
            <mechanicalReduction>1</mechanicalReduction>
        </actuator>
    </transmission>
<!-- *************************************Transmission************************************** -->

    <link name="ppb_bracket">
    <visual>
    <origin xyz="-0.0249 -0.0037 0.014" rpy="-3.14159 8.24436e-18 -6.24076e-32" />
    <geometry>
    <mesh filename="package://allegro_hand_description/meshes/proximal_back.stl"/>
    </geometry>
    <material name="proximal_back_material">
    <color rgba="1 0.756863 0.054902 1.0"/>
    </material>
    </visual>
    <collision>
    <origin xyz="-0.0249 -0.0037 0.014" rpy="-3.14159 8.24436e-18 -6.24076e-32" />
    <geometry>
    <mesh filename="package://allegro_hand_description/meshes/proximal_back.stl"/>
    </geometry>
    <material name="proximal_back_material">
    <color rgba="1 0.756863 0.054902 1.0"/>
    </material>
    </collision>
    <inertial>
    <origin xyz="0.00190421 0.00603324 0.0192417" rpy="0 0 0"/>
    <mass value="0.00681742" />
    <inertia ixx="1.33469e-06" ixy="-1.25087e-08"  ixz="-1.65721e-09" iyy="2.12223e-06" iyz="3.02232e-07" izz="1.86525e-06" />
    </inertial>
    </link>

    <joint name="joint_pinky_proximal_back_bracket" type="fixed">
    <origin xyz="-0.0249 0.0037 0.0253" rpy="3.14159 2.21409e-15 3.14159" />
    <parent link="link_9" />
    <child link="ppb_bracket" />
    <axis xyz="0 0 1"/>
    <limit effort="1" velocity="20" />
    <joint_properties friction="0.0"/>
    </joint>

    <link name="ppf_bracket">
    <visual>
    <origin xyz="-0.0249 -0.0077 0.014" rpy="-1.39889e-31 -1.05186e-17 3.25417e-31" />
    <geometry>
    <mesh filename="package://allegro_hand_description/meshes/proximal_front.stl"/>
    </geometry>
    <material name="proximal_front_material">
    <color rgba="1 0.756863 0.054902 1.0"/>
    </material>
    </visual>
    <collision>
    <origin xyz="-0.0249 -0.0077 0.014" rpy="-1.39889e-31 -1.05186e-17 3.25417e-31" />
    <geometry>
    <mesh filename="package://allegro_hand_description/meshes/proximal_front.stl"/>
    </geometry>
    <material name="proximal_front_material">
    <color rgba="1 0.756863 0.054902 1.0"/>
    </material>
    </collision>
    <inertial>
    <origin xyz="0.00266438 0.00143857 0.0191449" rpy="0 0 0"/>
    <mass value="0.00549452" />
    <inertia ixx="8.30997e-07" ixy="-1.44805e-08"  ixz="8.87855e-09" iyy="1.59352e-06" iyz="2.4142e-07" izz="1.37197e-06" />
    </inertial>
    </link>

    <joint name="joint_pinky_proximal_front_bracket" type="fixed">
    <origin xyz="-0.0249 -0.0077 -0.0017" rpy="-1.19862e-14 1.01475e-15 3.14159" />
    <parent link="link_9" />
    <child link="ppf_bracket" />
    <axis xyz="0 0 1"/>
    <limit effort="1" velocity="20" />
    <joint_properties friction="0.0"/>
    </joint>

    <joint name="joint_9_0" type="revolute">
    <origin xyz="-2.77556e-17 -0.0119 0.02545" rpy="-1.5708 1.5708 0" />
    <parent link="link_8" />
    <child link="link_9" />
    <axis xyz="0 0 1"/>
    <limit effort="15" velocity="20" lower="0" upper="1.57" />
    <dynamics damping="0" friction="0.5" />
    <gazebo>
        <implicitSpringDamper> true </implicitSpringDamper>
    </gazebo>
    </joint>
    <!-- *************************************Transmission************************************** -->
    <transmission name="trans_9_0">
        <type>transmission_interface/SimpleTransmission</type>
        <joint name="joint_9_0">
            <hardwareInterface>hardware_interface/EffortJointInterface</hardwareInterface>
        </joint>
        <actuator name="motor_9_0">
            <mechanicalReduction>1</mechanicalReduction>
        </actuator>
    </transmission>
<!-- *************************************Transmission************************************** -->

    <joint name="joint_8_0" type="revolute">
    <origin xyz="0.0435377 0.034 -0.00553922" rpy="0.0872665 4.16334e-17 1.5708" />
    <parent link="palm_link" />
    <child link="link_8" />
    <axis xyz="0 0 1"/>
    <limit effort="15" velocity="20" lower="-1.57" upper="1.57" />
    <dynamics damping="0" friction="0.5" />
    <gazebo>
        <implicitSpringDamper> true </implicitSpringDamper>
    </gazebo>
    </joint>
    <!-- *************************************Transmission************************************** -->
    <transmission name="trans_8_0">
        <type>transmission_interface/SimpleTransmission</type>
        <joint name="joint_8_0">
            <hardwareInterface>hardware_interface/EffortJointInterface</hardwareInterface>
        </joint>
        <actuator name="motor_8_0">
            <mechanicalReduction>1</mechanicalReduction>
        </actuator>
    </transmission>
<!-- *************************************Transmission************************************** -->

    <link name="link_12">
    <visual>
    <origin xyz="0.0232805 -0.0182 -0.0808312" rpy="-2.48535e-33 -0.0872665 -2.25407e-32" />
    <geometry>
    <mesh filename="package://allegro_hand_description/meshes/f1_r.stl"/>
    </geometry>
    <material name="f1_r_material">
    <color rgba="0.129412 0.129412 0.129412 1.0"/>
    </material>
    </visual>
    <collision>
    <origin xyz="0.0232805 -0.0182 -0.0808312" rpy="-2.48535e-33 -0.0872665 -2.25407e-32" />
    <geometry>
    <mesh filename="package://allegro_hand_description/meshes/f1_r.stl"/>
    </geometry>
    <material name="f1_r_material">
    <color rgba="0.129412 0.129412 0.129412 1.0"/>
    </material>
    </collision>
    <inertial>
    <origin xyz="-0.0151161 -0.00905831 -0.0192298" rpy="0 0 0"/>
    <mass value="0.0660275" />
    <inertia ixx="1.44344e-05" ixy="1.24597e-06"  ixz="3.47822e-08" iyy="1.76386e-05" iyz="6.49531e-07" izz="1.41981e-05" />
    </inertial>
    </link>

    <link name="link_13">
    <visual>
    <origin xyz="-3.46945e-18 0 -0.0152" rpy="1.5708 2.06898e-17 1.5708" />
    <geometry>
    <mesh filename="package://allegro_hand_description/meshes/extended_finger_base.stl"/>
    </geometry>
    <material name="extended_finger_base_material">
    <color rgba="0.647059 0.647059 0.647059 1.0"/>
    </material>
    </visual>
    <collision>
    <origin xyz="-3.46945e-18 0 -0.0152" rpy="1.5708 2.06898e-17 1.5708" />
    <geometry>
    <mesh filename="package://allegro_hand_description/meshes/extended_finger_base.stl"/>
    </geometry>
    <material name="extended_finger_base_material">
    <color rgba="0.647059 0.647059 0.647059 1.0"/>
    </material>
    </collision>
    <inertial>
    <origin xyz="-0.000666149 -0.00041342 0.00960564" rpy="0 0 0"/>
    <mass value="0.0136672" />
    <inertia ixx="1.671e-06" ixy="6.13056e-08"  ixz="7.9563e-08" iyy="1.24411e-06" iyz="5.86704e-10" izz="2.13441e-06" />
    </inertial>
    </link>

    <link name="link_14">
    <visual>
    <origin xyz="0.0787805 -0.0716312 0.0251" rpy="-1.5708 1.2208e-31 0.0872665" />
    <geometry>
    <mesh filename="package://allegro_hand_description/meshes/f3_r.stl"/>
    </geometry>
    <material name="f3_r_material">
    <color rgba="0.129412 0.129412 0.129412 1.0"/>
    </material>
    </visual>
    <collision>
    <origin xyz="0.0787805 -0.0716312 0.0251" rpy="-1.5708 1.2208e-31 0.0872665" />
    <geometry>
    <mesh filename="package://allegro_hand_description/meshes/f3_r.stl"/>
    </geometry>
    <material name="f3_r_material">
    <color rgba="0.129412 0.129412 0.129412 1.0"/>
    </material>
    </collision>
    <inertial>
    <origin xyz="-0.0169218 0.00050045 0.012098" rpy="0 0 0"/>
    <mass value="0.0307701" />
    <inertia ixx="3.26297e-06" ixy="-7.80105e-07"  ixz="4.19183e-07" iyy="9.45316e-06" iyz="7.40454e-08" izz="8.27249e-06" />
    </inertial>
    </link>

    <link name="link_15">
    <visual>
    <origin xyz="0.13018 -0.0716312 0.0252" rpy="-1.5708 1.74443e-31 0.0872665" />
    <geometry>
    <mesh filename="package://allegro_hand_description/meshes/f4_r.stl"/>
    </geometry>
    <material name="f4_r_material">
    <color rgba="0.2 0.2 0.2 1.0"/>
    </material>
    </visual>
    <collision>
    <origin xyz="0.13018 -0.0716312 0.0252" rpy="-1.5708 1.74443e-31 0.0872665" />
    <geometry>
    <mesh filename="package://allegro_hand_description/meshes/f4_r.stl"/>
    </geometry>
    <material name="f4_r_material">
    <color rgba="0.2 0.2 0.2 1.0"/>
    </material>
    </collision>
    <inertial>
    <origin xyz="-0.0146717 0.000106021 0.012196" rpy="0 0 0"/>
    <mass value="0.0326938" />
    <inertia ixx="2.85763e-06" ixy="-2.76566e-07"  ixz="3.76274e-07" iyy="6.11217e-06" iyz="5.74019e-08" izz="5.36876e-06" />
    </inertial>
    </link>

    <link name="tft_bracket">
    <visual>
    <origin xyz="-0.1139 -0.004 0.0135" rpy="-3.14159 -8.20535e-32 5.46303e-18" />
    <geometry>
    <mesh filename="package://allegro_hand_description/meshes/distal_pcbbase.stl"/>
    </geometry>
    <material name="distal_pcbbase_material">
    <color rgba="1 0.756863 0.054902 1.0"/>
    </material>
    </visual>
    <collision>
    <origin xyz="-0.1139 -0.004 0.0135" rpy="-3.14159 -8.20535e-32 5.46303e-18" />
    <geometry>
    <mesh filename="package://allegro_hand_description/meshes/distal_pcbbase.stl"/>
    </geometry>
    <material name="distal_pcbbase_material">
    <color rgba="1 0.756863 0.054902 1.0"/>
    </material>
    </collision>
    <inertial>
    <origin xyz="0.0170719 -0.00112911 0.0135244" rpy="0 0 0"/>
    <mass value="0.0155109" />
    <inertia ixx="3.339e-06" ixy="-4.60426e-07"  ixz="1.73449e-08" iyy="6.13257e-06" iyz="-6.39964e-10" izz="4.49513e-06" />
    </inertial>
    </link>

    <joint name="joint_thumb_fingertip_bracket" type="fixed">
    <origin xyz="-0.0291 0.0037 0.0253" rpy="3.14159 3.0723e-15 -3.14159" />
    <parent link="link_15" />
    <child link="tft_bracket" />
    <axis xyz="0 0 1"/>
    <limit effort="1" velocity="20" />
    <joint_properties friction="0.0"/>
    </joint>

    <joint name="joint_15_0" type="revolute">
    <origin xyz="-0.0514 -9.89486e-15 -0.0001" rpy="7.8724e-16 1.94208e-15 2.09209e-13" />
    <parent link="link_14" />
    <child link="link_15" />
    <axis xyz="0 0 1"/>
    <limit effort="15" velocity="20" lower="0" upper="1.57" />
    <dynamics damping="0" friction="0.5" />
    <gazebo>
        <implicitSpringDamper> true </implicitSpringDamper>
    </gazebo>
    </joint>
    <!-- *************************************Transmission************************************** -->
    <transmission name="trans_15_0">
        <type>transmission_interface/SimpleTransmission</type>
        <joint name="joint_15_0">
            <hardwareInterface>hardware_interface/EffortJointInterface</hardwareInterface>
        </joint>
        <actuator name="motor_15_0">
            <mechanicalReduction>1</mechanicalReduction>
        </actuator>
    </transmission>
<!-- *************************************Transmission************************************** -->

    <link name="tmb_bracket">
    <visual>
    <origin xyz="0.004 0.0329 0.014" rpy="1.5708 3.19014e-32 -5.8953e-18" />
    <geometry>
    <mesh filename="package://allegro_hand_description/meshes/thumb_medial_back_bracket.stl"/>
    </geometry>
    <material name="thumb_medial_back_bracket_material">
    <color rgba="0.917647 0.917647 0.917647 1.0"/>
    </material>
    </visual>
    <collision>
    <origin xyz="0.004 0.0329 0.014" rpy="1.5708 3.19014e-32 -5.8953e-18" />
    <geometry>
    <mesh filename="package://allegro_hand_description/meshes/thumb_medial_back_bracket.stl"/>
    </geometry>
    <material name="thumb_medial_back_bracket_material">
    <color rgba="0.917647 0.917647 0.917647 1.0"/>
    </material>
    </collision>
    <inertial>
    <origin xyz="-0.00600734 0.00588203 0.0181482" rpy="0 0 0"/>
    <mass value="0.00473763" />
    <inertia ixx="1.11799e-06" ixy="-2.9649e-08"  ixz="1.65587e-07" iyy="9.60308e-07" iyz="-6.32913e-08" izz="7.92445e-07" />
    </inertial>
    </link>

    <joint name="joint_thumb_medial_back_bracket" type="fixed">
    <origin xyz="-0.0249 0.004 -0.0022" rpy="-2.32122e-16 2.56368e-16 -1.5708" />
    <parent link="link_14" />
    <child link="tmb_bracket" />
    <axis xyz="0 0 1"/>
    <limit effort="1" velocity="20" />
    <joint_properties friction="0.0"/>
    </joint>

    <link name="tmf_bracket">
    <visual>
    <origin xyz="-0.004 -0.0329 0.014" rpy="-1.5708 3.56272e-31 -3.69029e-18" />
    <geometry>
    <mesh filename="package://allegro_hand_description/meshes/thumb_medial_front_bracket.stl"/>
    </geometry>
    <material name="thumb_medial_front_bracket_material">
    <color rgba="0.917647 0.917647 0.917647 1.0"/>
    </material>
    </visual>
    <collision>
    <origin xyz="-0.004 -0.0329 0.014" rpy="-1.5708 3.56272e-31 -3.69029e-18" />
    <geometry>
    <mesh filename="package://allegro_hand_description/meshes/thumb_medial_front_bracket.stl"/>
    </geometry>
    <material name="thumb_medial_front_bracket_material">
    <color rgba="0.917647 0.917647 0.917647 1.0"/>
    </material>
    </collision>
    <inertial>
    <origin xyz="0.00534582 -0.00527635 0.0171061" rpy="0 0 0"/>
    <mass value="0.0040514" />
    <inertia ixx="9.13083e-07" ixy="-5.82508e-09"  ixz="-1.21819e-07" iyy="6.82814e-07" iyz="1.23951e-07" izz="5.97236e-07" />
    </inertial>
    </link>

    <joint name="joint_thumb_medial_front_bracket" type="fixed">
    <origin xyz="-0.0249 -0.004 0.0258" rpy="3.14159 -1.54748e-16 -1.5708" />
    <parent link="link_14" />
    <child link="tmf_bracket" />
    <axis xyz="0 0 1"/>
    <limit effort="1" velocity="20" />
    <joint_properties friction="0.0"/>
    </joint>

    <joint name="joint_14_0" type="revolute">
    <origin xyz="0.0119 0 0.02545" rpy="-3.14159 1.5708 0" />
    <parent link="link_13" />
    <child link="link_14" />
    <axis xyz="0 0 1"/>
    <limit effort="15" velocity="20" lower="0" upper="1.57" />
    <dynamics damping="0" friction="0.5" />
    <gazebo>
        <implicitSpringDamper> true </implicitSpringDamper>
    </gazebo>
    </joint>
    <!-- *************************************Transmission************************************** -->
    <transmission name="trans_14_0">
        <type>transmission_interface/SimpleTransmission</type>
        <joint name="joint_14_0">
            <hardwareInterface>hardware_interface/EffortJointInterface</hardwareInterface>
        </joint>
        <actuator name="motor_14_0">
            <mechanicalReduction>1</mechanicalReduction>
        </actuator>
    </transmission>
<!-- *************************************Transmission************************************** -->


    <joint name="joint_13_0" type="revolute">
    <origin xyz="-0.0375 -0.005 -0.0092" rpy="-1.5708 -3.01469e-15 1.5708" />
    <parent link="link_12" />
    <child link="link_13" />
    <axis xyz="0 0 1"/>
    <limit effort="15" velocity="20" lower="0" upper="2" />
    <dynamics damping="0" friction="0.5" />
    <gazebo>
        <implicitSpringDamper> true </implicitSpringDamper>
    </gazebo>
    </joint>
    <!-- *************************************Transmission************************************** -->
    <transmission name="trans_13_0">
        <type>transmission_interface/SimpleTransmission</type>
        <joint name="joint_13_0">
            <hardwareInterface>hardware_interface/EffortJointInterface</hardwareInterface>
        </joint>
        <actuator name="motor_13_0">
            <mechanicalReduction>1</mechanicalReduction>
        </actuator>
    </transmission>
<!-- *************************************Transmission************************************** -->

    <joint name="joint_12_0" type="revolute">
    <origin xyz="-0.0161208 0.0158 -0.0848515" rpy="-3.14159 -0.0872665 1.84398e-16" />
    <parent link="palm_link" />
    <child link="link_12" />
    <axis xyz="0 0 1"/>
    <limit effort="15" velocity="20" lower="0" upper="1.57" />
    <dynamics damping="0" friction="0.5" />
    <gazebo>
        <implicitSpringDamper> true </implicitSpringDamper>
    </gazebo>
    </joint>
    <!-- *************************************Transmission************************************** -->
    <transmission name="trans_12_0">
        <type>transmission_interface/SimpleTransmission</type>
        <joint name="joint_12_0">
            <hardwareInterface>hardware_interface/EffortJointInterface</hardwareInterface>
        </joint>
        <actuator name="motor_12_0">
            <mechanicalReduction>1</mechanicalReduction>
        </actuator>
    </transmission>
<!-- *************************************Transmission************************************** -->

    <link name="boh_bracket">
    <visual>
    <origin xyz="0.02 0.007 0.0435" rpy="-1.5708 -1.5708 0" />
    <geometry>
    <mesh filename="package://allegro_hand_description/meshes/part_4.dae"/>
    </geometry>
    <material name="part_4_material">
    <color rgba="0.980392 0.713725 0.00392157 1.0"/>
    </material>
    </visual>
    <collision>
    <origin xyz="0.02 0.007 0.0435" rpy="-1.5708 -1.5708 0" />
    <geometry>
    <mesh filename="package://allegro_hand_description/meshes/part_4.dae"/>
    </geometry>
    <material name="part_4_material">
    <color rgba="0.980392 0.713725 0.00392157 1.0"/>
    </material>
    </collision>
    <inertial>
    <origin xyz="0.0205425 -0.0333769 -0.00325" rpy="0 0 0"/>
    <mass value="0.0385521" />
    <inertia ixx="5.89511e-05" ixy="3.11147e-09"  ixz="-3.78027e-07" iyy="9.09733e-05" iyz="4.84151e-09" izz="3.60656e-05" />
    </inertial>
    </link>

    <joint name="joint_boh_bracket" type="fixed">
    <origin xyz="0.02 -0.0094 -0.009" rpy="1.5708 -0 3.14159" />
    <parent link="palm_link" />
    <child link="boh_bracket" />
    <axis xyz="0 0 1"/>
    <limit effort="1" velocity="20" />
    <joint_properties friction="0.0"/>
    </joint>

    <link name="palm_bracket">
    <visual>
    <origin xyz="-0.000254584 -0.095 0.0113" rpy="1.5708 1.5708 0" />
    <geometry>
    <mesh filename="package://allegro_hand_description/meshes/palm_bracket.dae"/>
    </geometry>
    <material name="palm_bracket_material">
    <color rgba="0.231373 0.380392 0.705882 1.0"/>
    </material>
    </visual>
    <collision>
    <origin xyz="-0.000254584 -0.095 0.0113" rpy="1.5708 1.5708 0" />
    <geometry>
    <mesh filename="package://allegro_hand_description/meshes/palm_bracket.dae"/>
    </geometry>
    <material name="palm_bracket_material">
    <color rgba="0.231373 0.380392 0.705882 1.0"/>
    </material>
    </collision>
    <inertial>
    <origin xyz="-0.0117692 -0.0440058 -0.00328358" rpy="0 0 0"/>
    <mass value="0.0366468" />
    <inertia ixx="3.0726e-05" ixy="3.33674e-07"  ixz="-2.90867e-06" iyy="5.36054e-05" iyz="1.29147e-07" izz="2.31158e-05" />
    </inertial>
    </link>

    <joint name="joint_palm_bracket" type="fixed">
    <origin xyz="-0.000254584 0.0453 -0.097" rpy="-1.5708 -0 3.14159" />
    <parent link="palm_link" />
    <child link="palm_bracket" />
    <axis xyz="0 0 1"/>
    <limit effort="1" velocity="20" />
    <joint_properties friction="0.0"/>
    </joint>
    
</robot>







    
